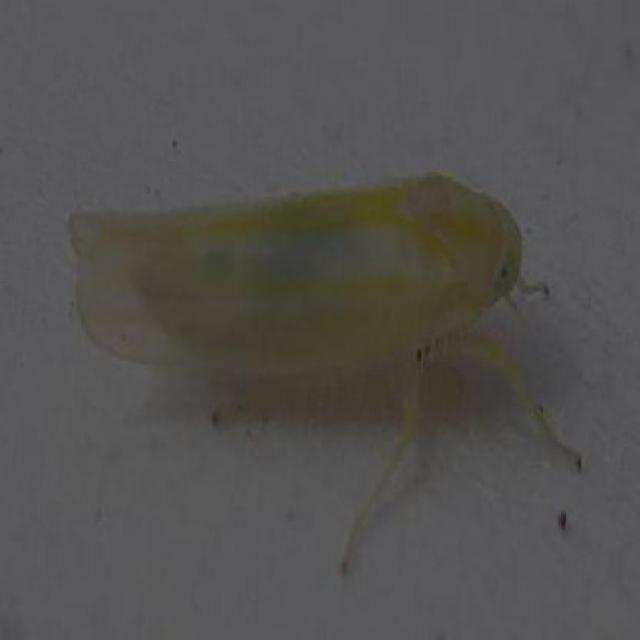green-leafhopper: (71, 190, 520, 415)
